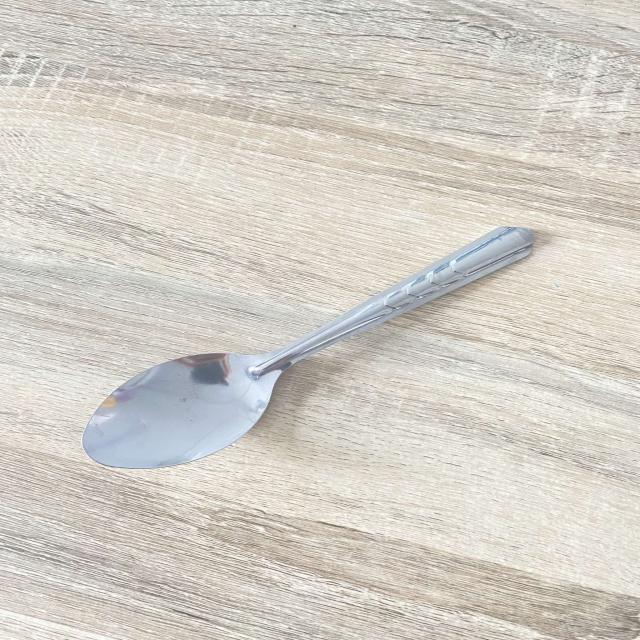spoon: (66, 214, 550, 478)
